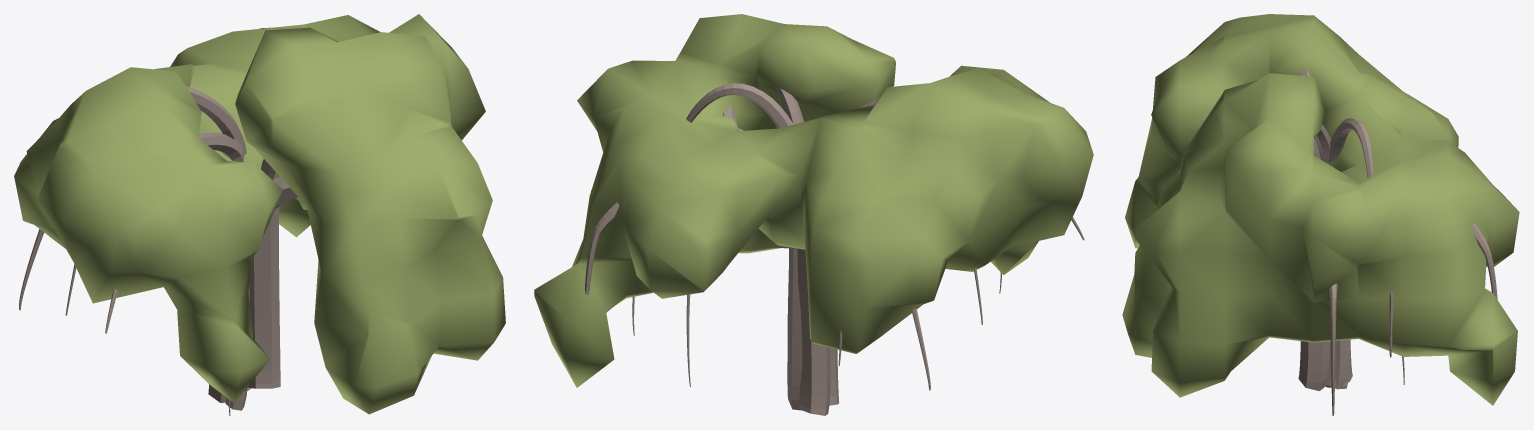
The model's file is arbre3_v2.fbx.
The picture shows the model from 3 angles, left to right: view 1: azimuth 30°, elevation 25°; view 2: azimuth 150°, elevation 25°; view 3: azimuth 270°, elevation 25°; orthographic projection. The views are drawn at different scales.
Visible parts, largest first — view 1: Mball, BezierCurve; view 2: Mball, BezierCurve; view 3: Mball, BezierCurve.
Boxes of the visible parts, x1,y1,x2,y2 form: Mball: [14, 14, 505, 414]; BezierCurve: [19, 86, 298, 415]; Mball: [534, 14, 1093, 387]; BezierCurve: [585, 83, 1084, 415]; Mball: [1122, 14, 1519, 405]; BezierCurve: [1298, 69, 1497, 415].
Size of the model in its own units: 3272 by 2463 by 2739.
